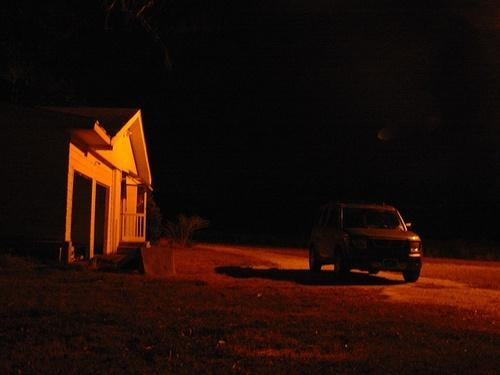car: (308, 204, 426, 287)
